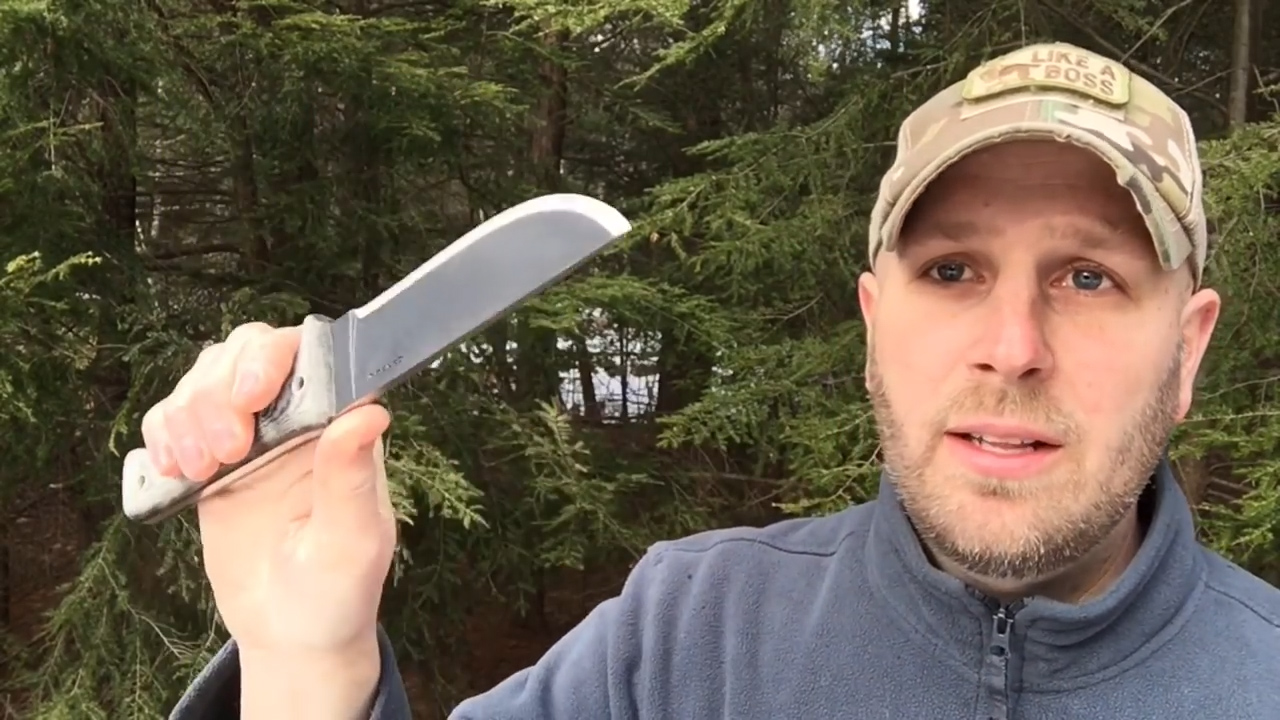knife: (185, 174, 650, 523)
